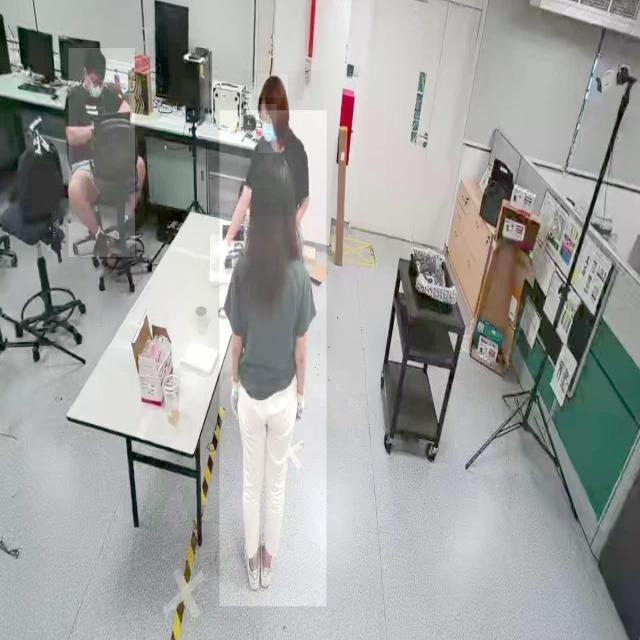face_mask: (258, 104, 276, 153), (87, 74, 105, 98)
hand_glove: (210, 235, 234, 282)
head_nohelmet: (250, 150, 294, 190), (258, 74, 288, 98), (82, 47, 106, 69)
person: (219, 110, 327, 607), (68, 48, 136, 258), (242, 70, 324, 216)
shoes: (240, 531, 261, 590), (87, 222, 113, 264), (259, 537, 275, 590)
